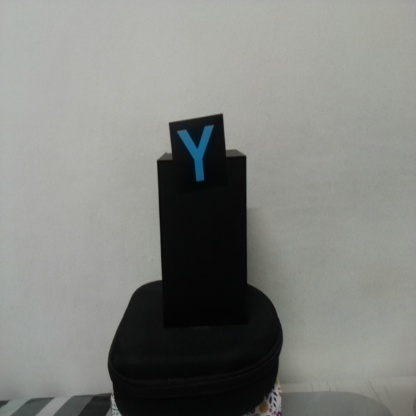id_14: (169, 121, 226, 191)
